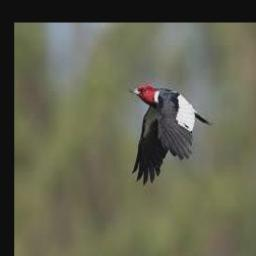Woodpecker: (129, 84, 213, 184)
